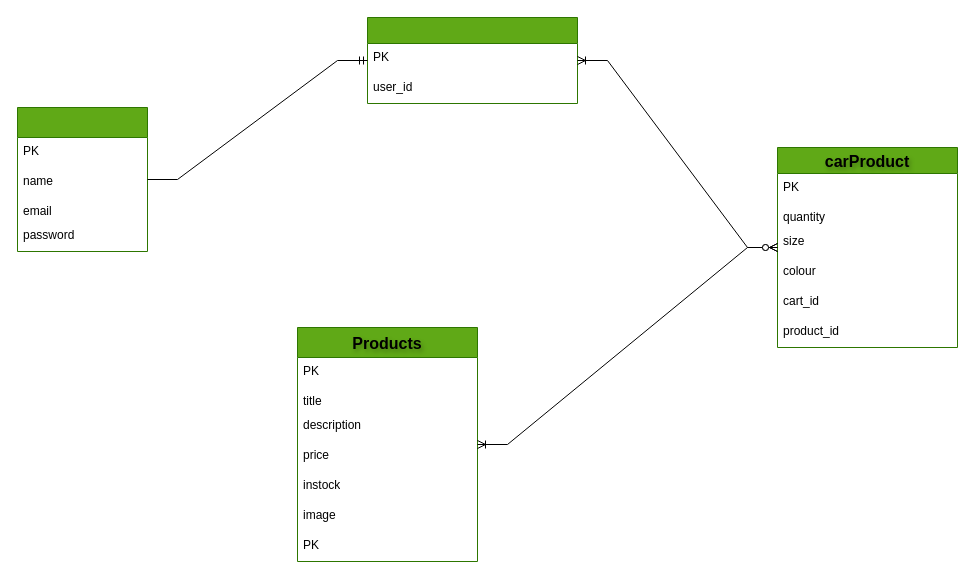
This 975x582 diagram has some shape labels left out. Each missing label, with the box of its shape:
Cart: (366, 16, 578, 104)
Users: (16, 106, 148, 252)
